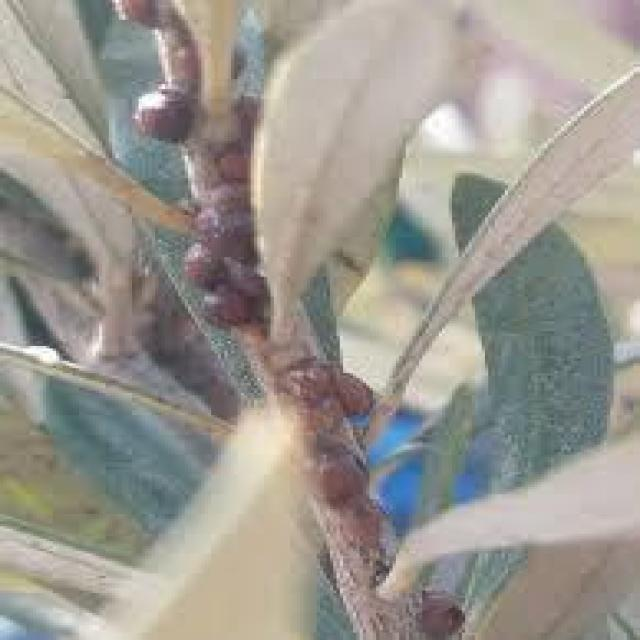BlackScale: (270, 352, 390, 546), (178, 93, 276, 330), (109, 0, 207, 141), (412, 590, 456, 638)
